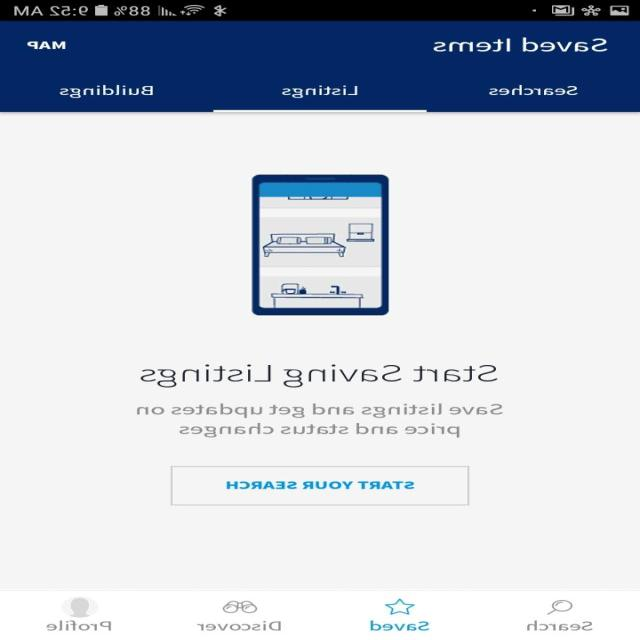Icon: (62, 595, 100, 617), (385, 598, 416, 615), (546, 599, 574, 615)
Image: (252, 174, 390, 315), (222, 600, 258, 613)
Text: (137, 402, 504, 438), (140, 364, 498, 387), (434, 37, 608, 52), (60, 85, 154, 98), (489, 84, 579, 96), (282, 85, 358, 98), (197, 620, 283, 631), (526, 620, 593, 631), (46, 620, 112, 631), (370, 620, 430, 630), (28, 41, 66, 50)
TextButton: (170, 466, 470, 506)
